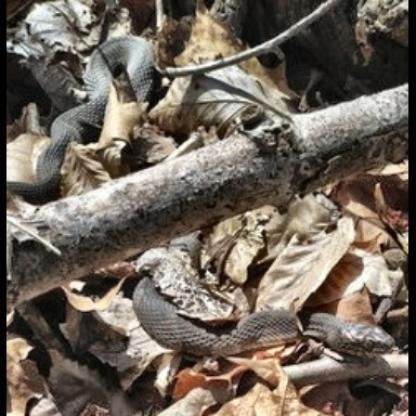Snake: (10, 19, 411, 403)
